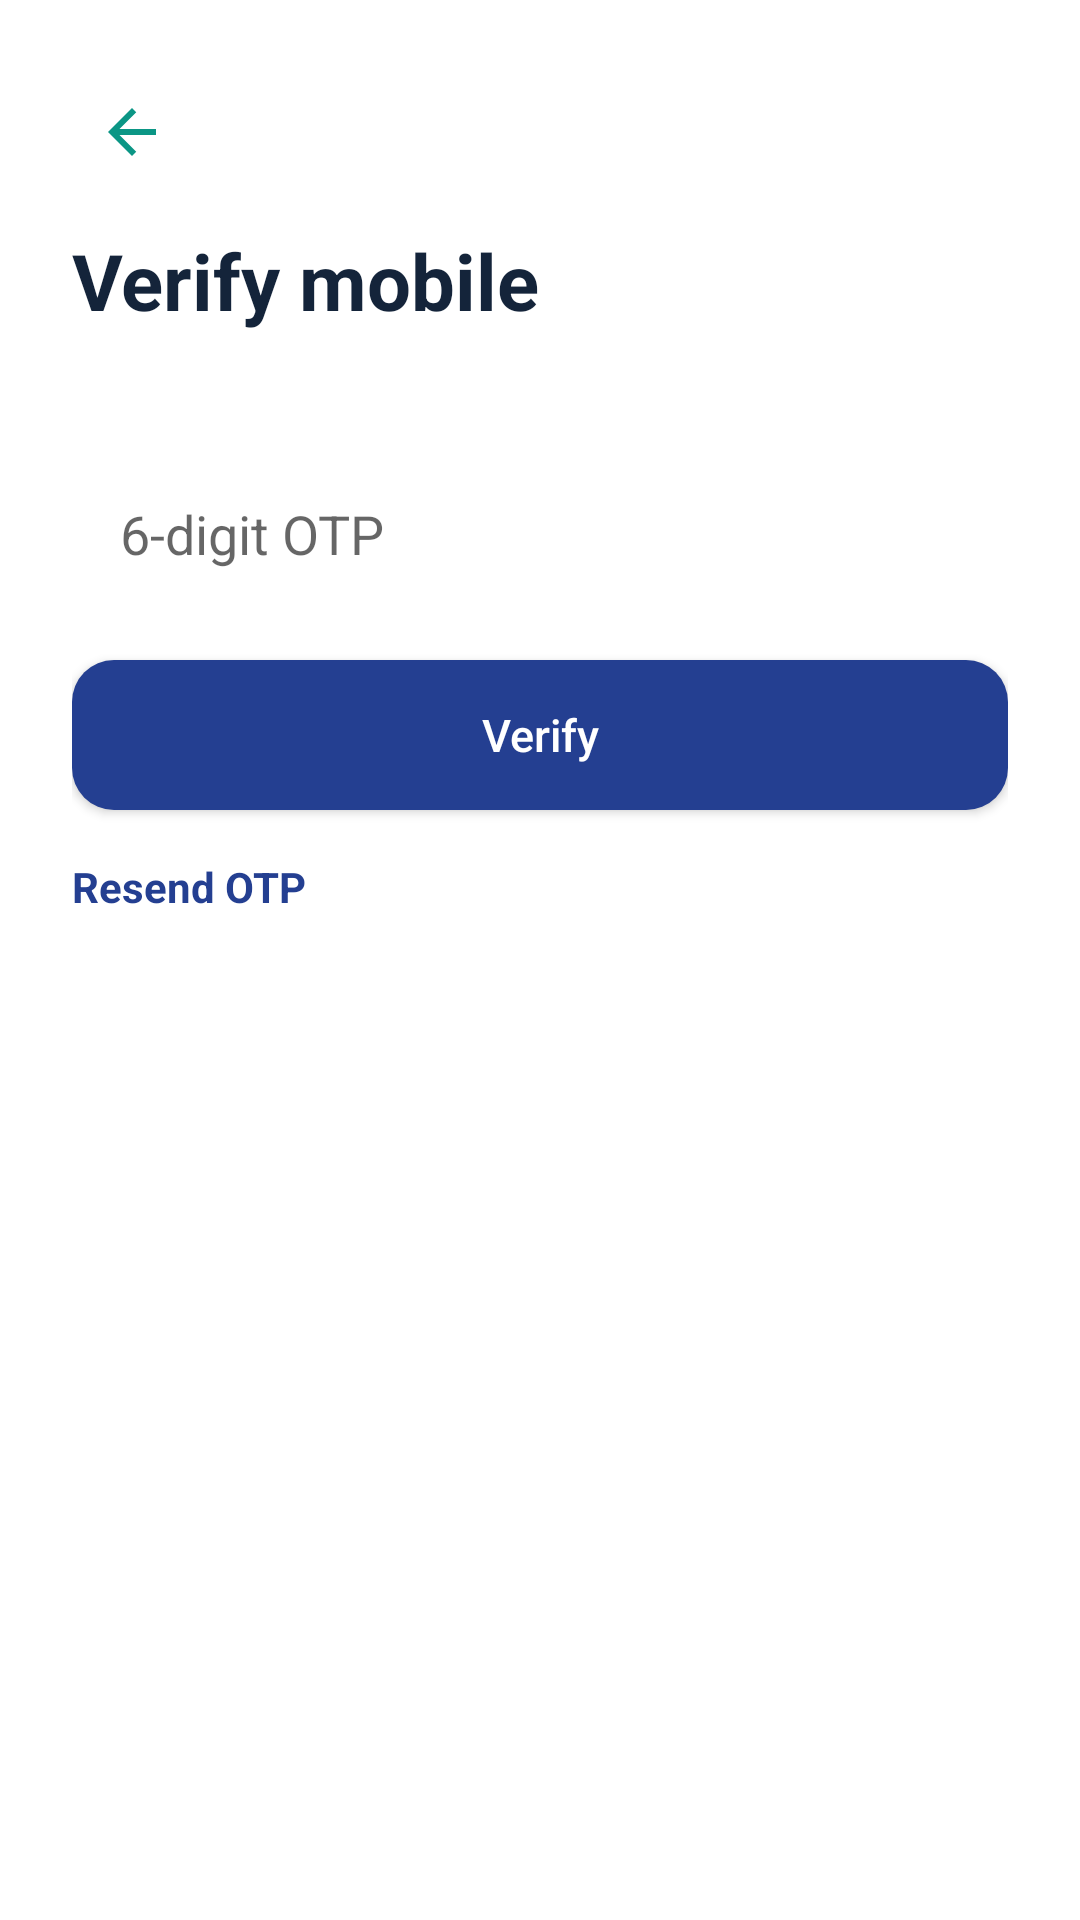

Named icons in this screenshot (1080 × 1920) and their centers, point (x, y):
Back: point (132, 132)
